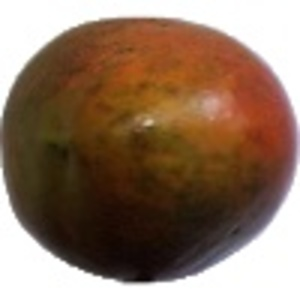manga: (1, 15, 300, 283)
